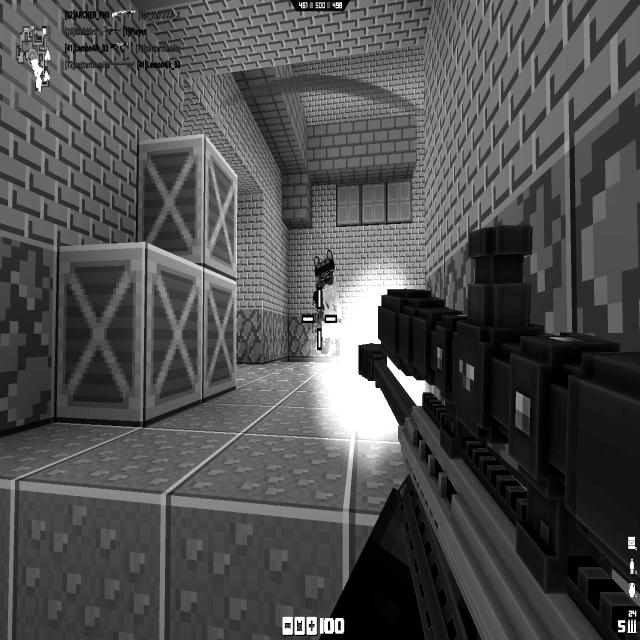Head: (314, 249, 335, 287)
Player: (314, 249, 342, 356)
